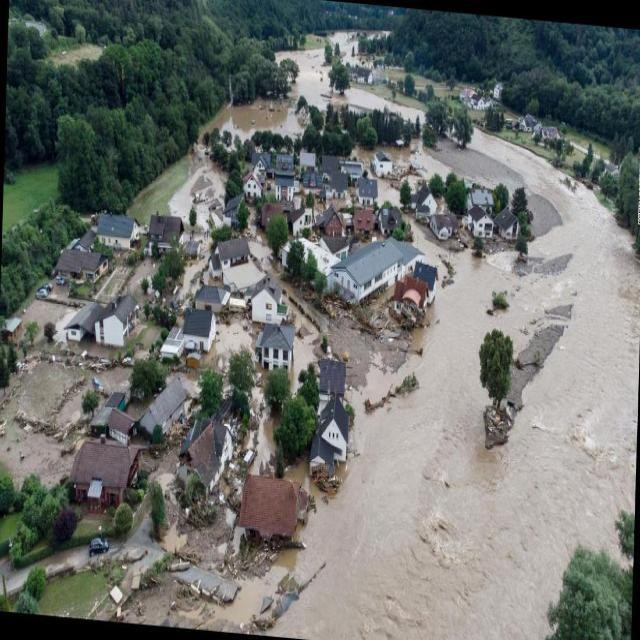flood: (305, 143, 640, 639)
